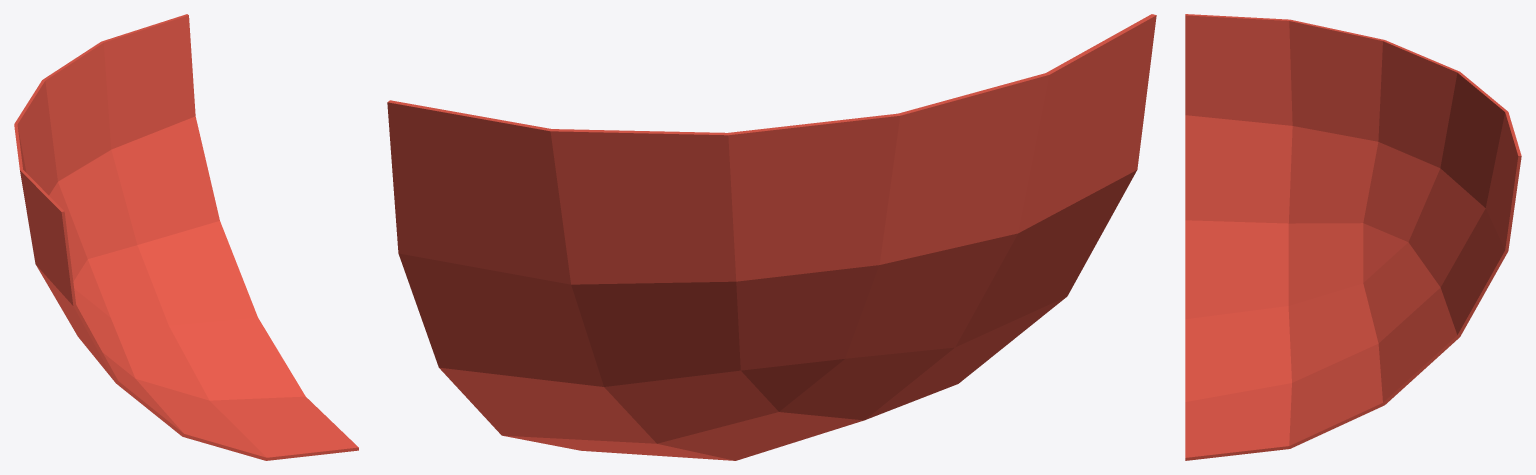
File: SM_Greenscreen_Plane_Corner.fbx
The picture shows the model from 3 angles, left to right: view 1: azimuth 30°, elevation 25°; view 2: azimuth 150°, elevation 25°; view 3: azimuth 270°, elevation 25°; orthographic projection. The views are drawn at different scales.
Parts seen in each view (by area): view 1: SM_Greenscreen_Plane_Corner; view 2: SM_Greenscreen_Plane_Corner; view 3: SM_Greenscreen_Plane_Corner.
Boxes of the visible parts, x1,y1,x2,y2 form: SM_Greenscreen_Plane_Corner: (14, 14, 358, 460); SM_Greenscreen_Plane_Corner: (387, 14, 1156, 460); SM_Greenscreen_Plane_Corner: (1185, 14, 1521, 460).
Bounding box in the file's own units: 100 × 100 × 100.
